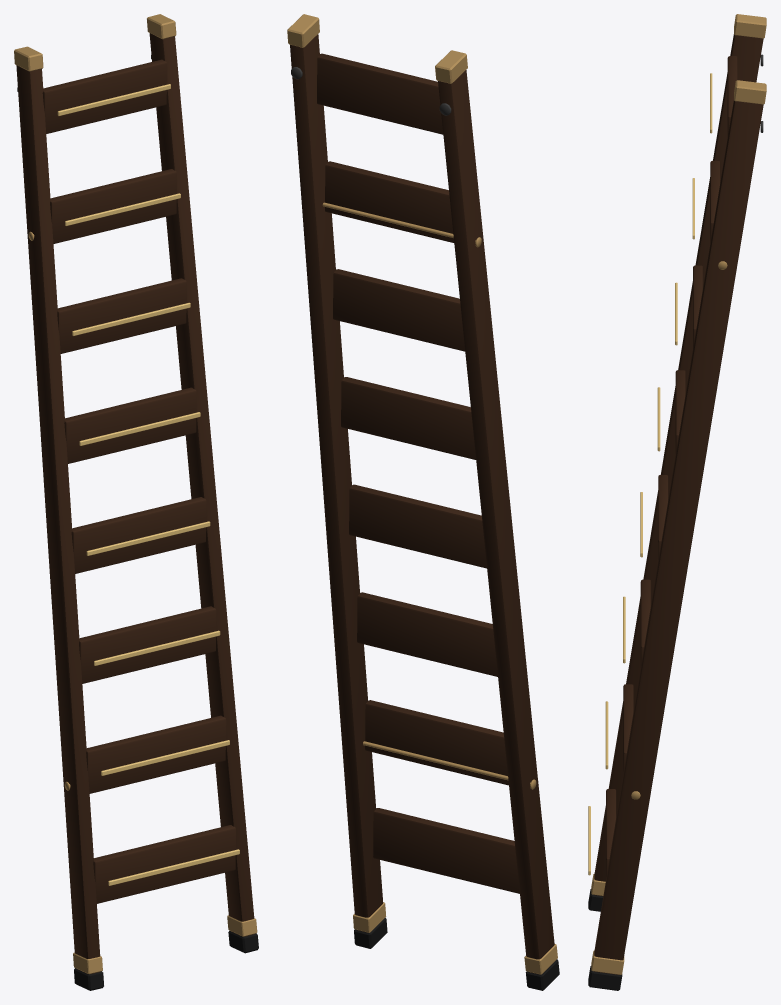
File: library_ladder.glb
3 renders of one model, left to right at view 1: azimuth 30°, elevation 25°; view 2: azimuth 150°, elevation 25°; view 3: azimuth 270°, elevation 25°, orthographic. The views are drawn at different scales.
Visible parts, largest first — view 1: library_ladder; view 2: library_ladder; view 3: library_ladder.
Boxes of the visible parts, <box> form: library_ladder: <box>14,14,258,990</box>; library_ladder: <box>287,14,559,990</box>; library_ladder: <box>588,14,766,990</box>.
Bounding box in the file's own units: 0.4619 × 2.29 × 0.4114.
